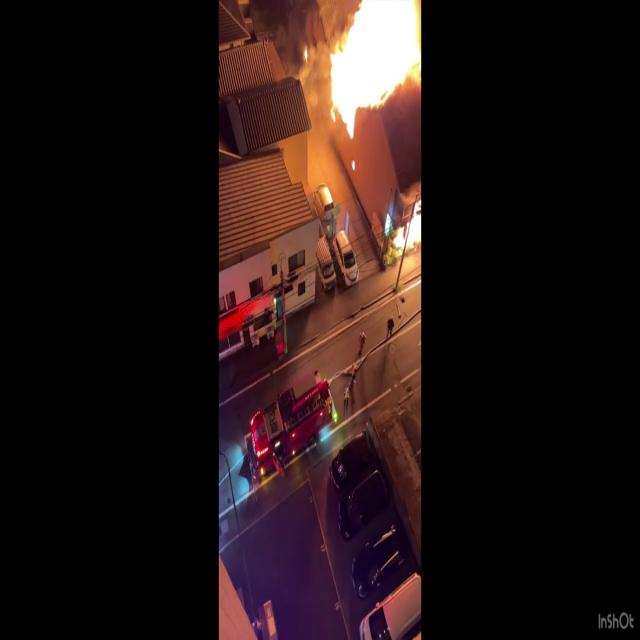Fire: (321, 0, 421, 121)
